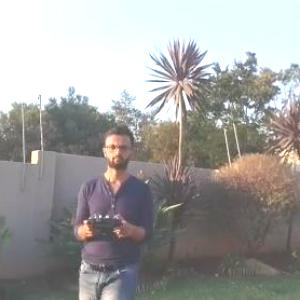follow: (61, 118, 151, 299)
